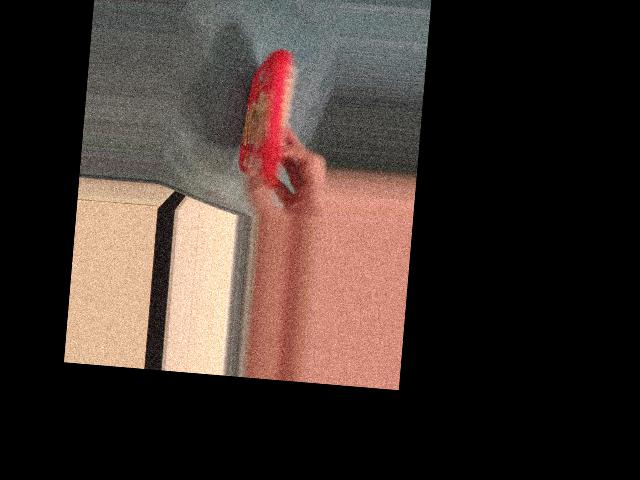cheese: (242, 51, 295, 187)
